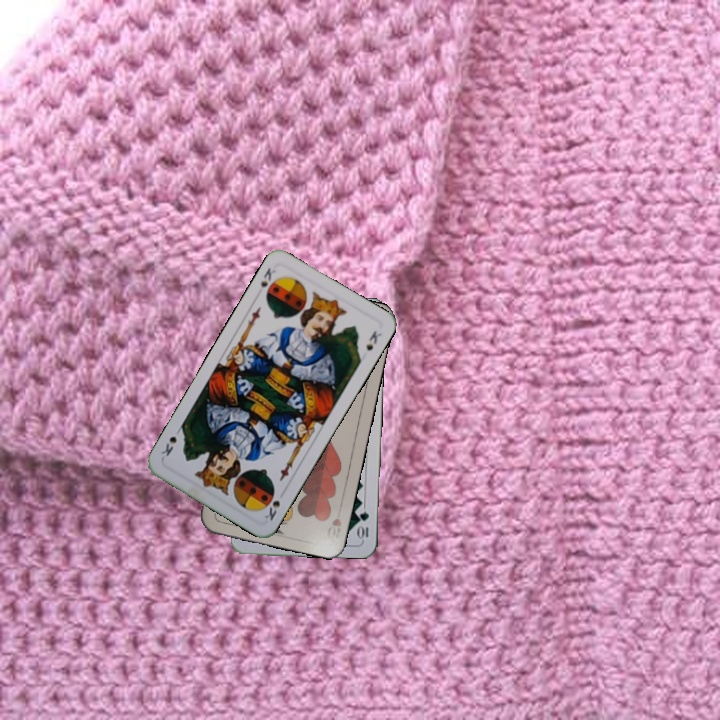G10: (355, 507, 371, 542)
H10: (323, 514, 344, 542)
SK: (256, 263, 278, 291), (261, 496, 283, 523)
